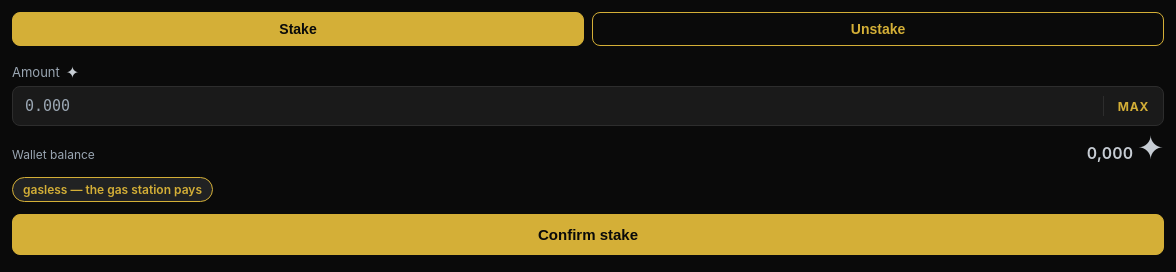
StakeUnstakeUrStoaModal — last-staker floor (REQ-21) › when the vault total is unknown, surfaces a distinct unavailable affordance, NOT a max of 0/full
Click the button with test id "stake-mode-unstake".
click(878, 29)  # box [592,12,1164,46]
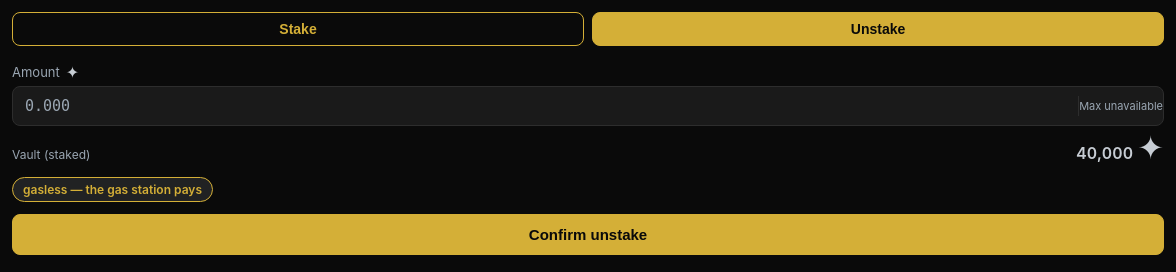
Now the text "Max unavailable" is shown, box [1079,99,1163,113]
Now the button with test id "stake-max" is gone
